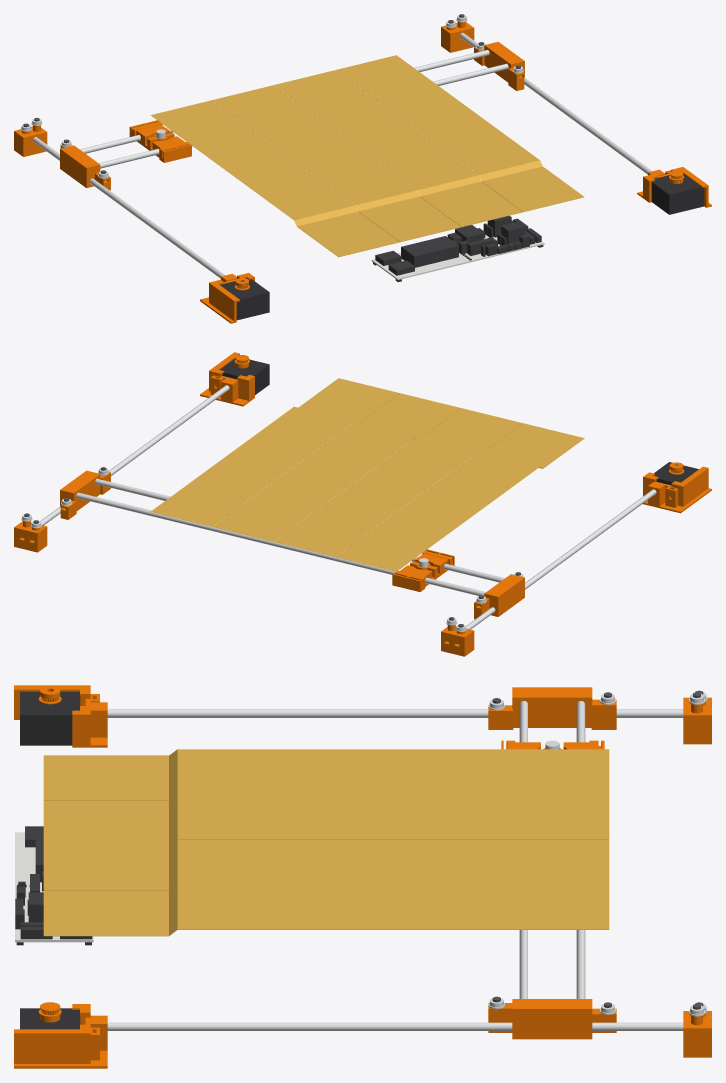
Rendered from mecanique.glb.
3 views of the same model, one above another, from view 1: azimuth 30°, elevation 25°; view 2: azimuth 150°, elevation 25°; view 3: azimuth 270°, elevation 25° (orthographic). The views are drawn at different scales.
Parts seen in each view (by area): view 1: fixe_nappe, fixe_carte_comp, fixe_orange, fixe_moteur, fixe_acier, portique_orange, portique_acier, chariot_orange, fixe_carte; view 2: fixe_nappe, fixe_orange, portique_acier, portique_orange, fixe_acier, chariot_orange, fixe_moteur; view 3: fixe_nappe, fixe_orange, fixe_acier, portique_orange, fixe_moteur, portique_acier, fixe_carte_comp, fixe_carte, chariot_orange.
Part boxes in pixels (x1,y1,x2,y2): fixe_nappe: (150,55,584,257); fixe_carte_comp: (373,215,543,282); fixe_orange: (14,21,711,323); fixe_moteur: (220,174,703,320); fixe_acier: (20,15,651,278); portique_orange: (60,41,524,190); portique_acier: (61,43,523,178); chariot_orange: (129,120,191,162); fixe_carte: (371,234,544,279); fixe_nappe: (150,378,584,571); fixe_orange: (14,352,711,656); portique_acier: (61,468,523,603); portique_orange: (60,470,524,619); fixe_acier: (21,385,656,631); chariot_orange: (392,549,454,591); fixe_moteur: (220,358,698,485); fixe_nappe: (43,749,609,936); fixe_orange: (14,685,711,1068); fixe_acier: (107,692,707,1030); portique_orange: (488,687,616,1039); fixe_moteur: (20,691,80,1029); portique_acier: (488,694,615,1014); fixe_carte_comp: (15,826,92,945); fixe_carte: (15,832,93,942); chariot_orange: (501,740,604,749).
Bounding box in the file's own units: 0.5858 × 0.0408 × 0.4898.
